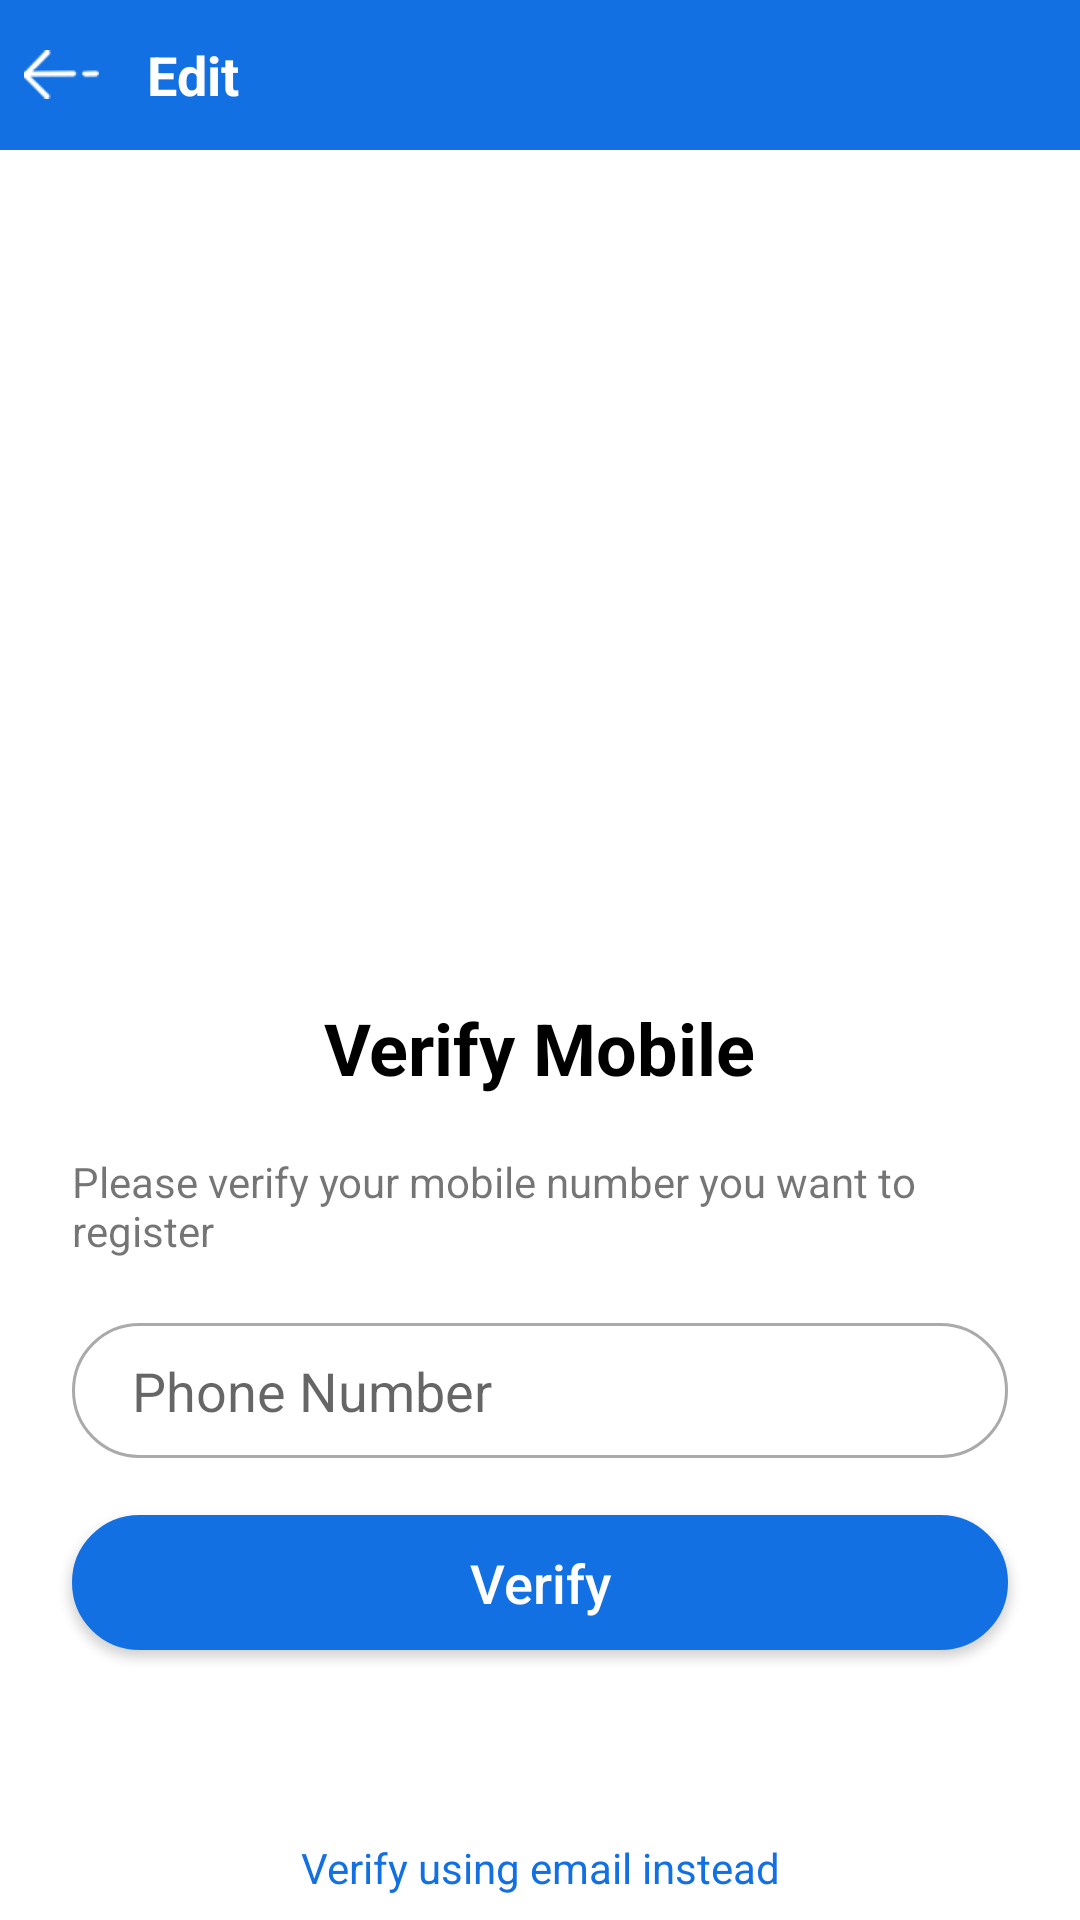

Locate icon controls on the screen. Image size 1080*1920, boxes as (x1, y1, x2, y2).
back: (24, 50, 99, 99)
